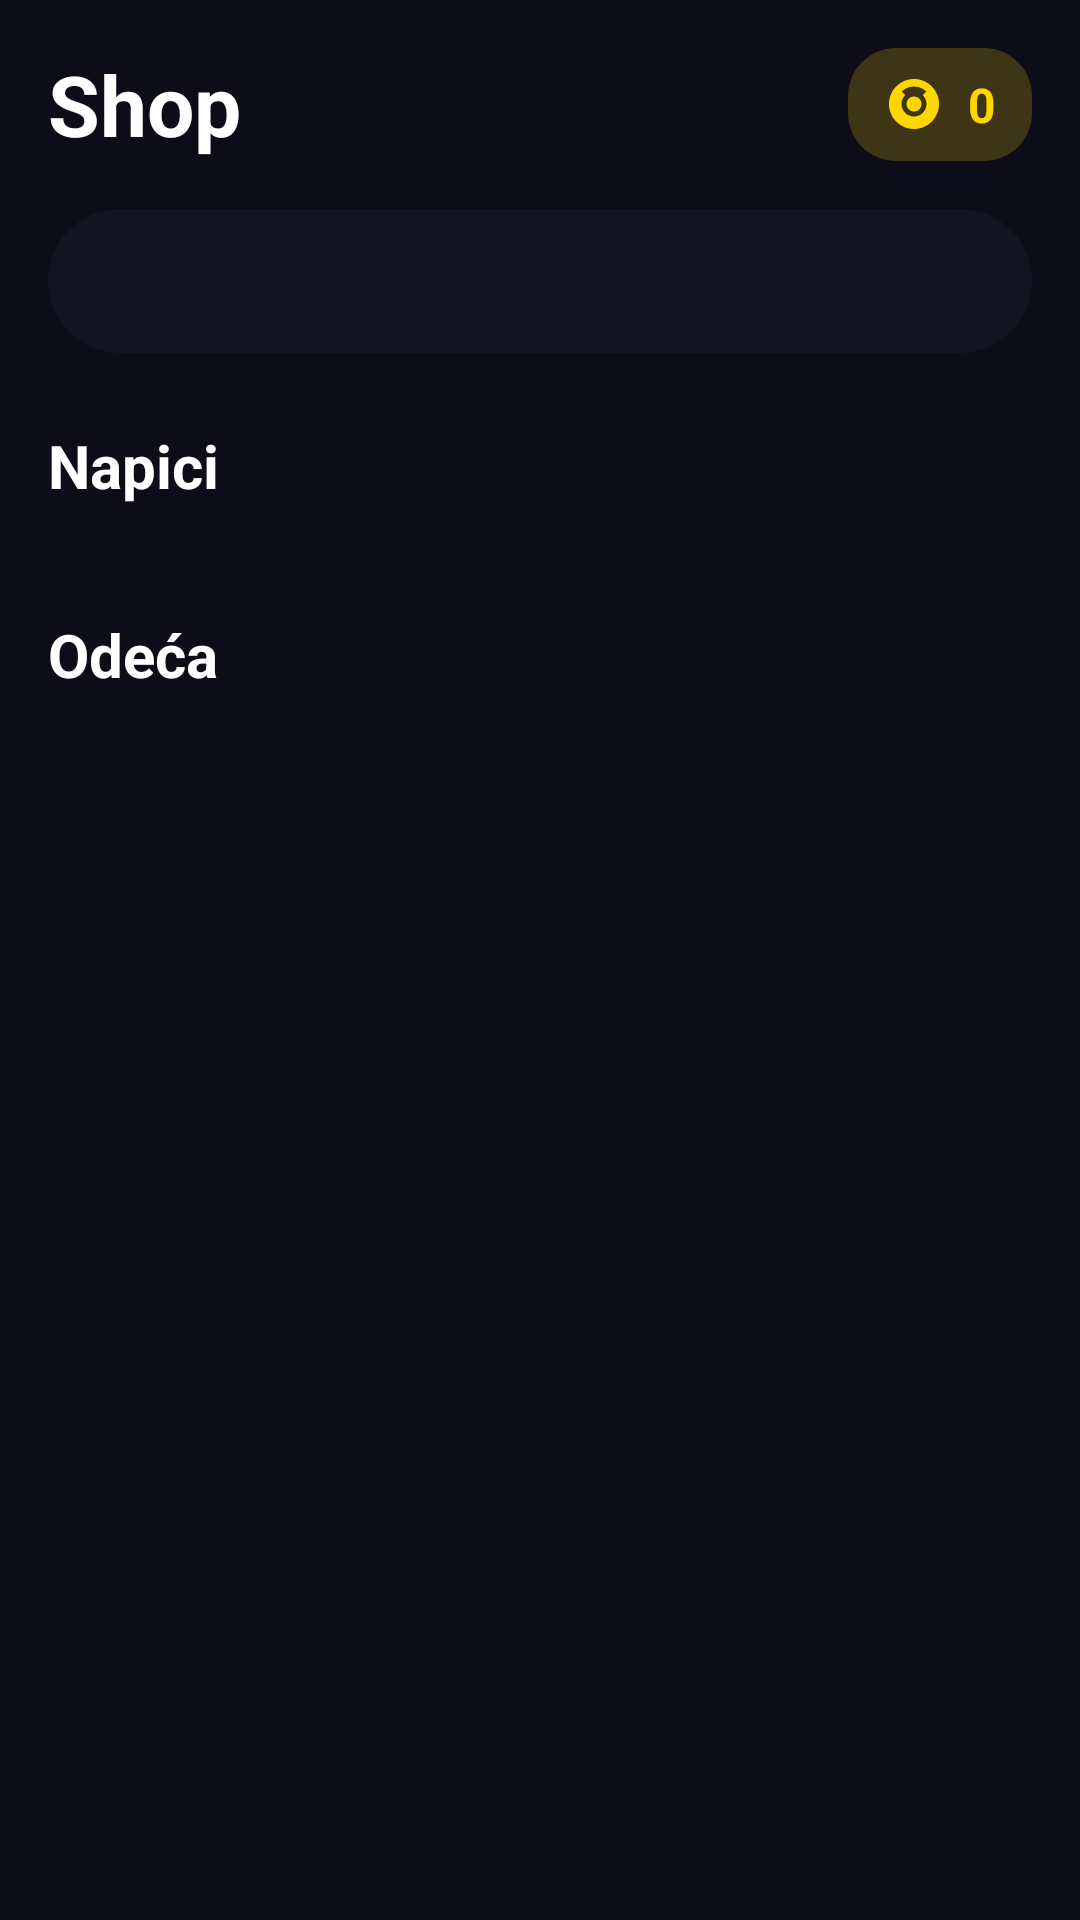

Icons on this 1080 x 1920 Android screen, each with its box as (x1, y1, x2, y2):
coin: (889, 79, 939, 129)
